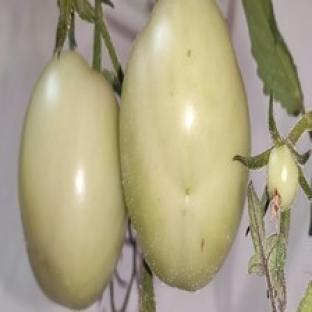Tomato: (20, 52, 125, 309), (268, 145, 299, 210)
